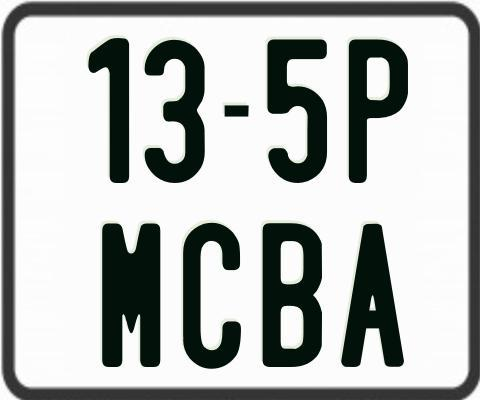1: (85, 35, 129, 186)
3: (143, 39, 206, 188)
5: (264, 39, 328, 188)
A: (339, 223, 408, 371)
B: (262, 221, 322, 366)
C: (183, 220, 245, 370)
M: (101, 222, 164, 371)
P: (346, 36, 406, 181)
